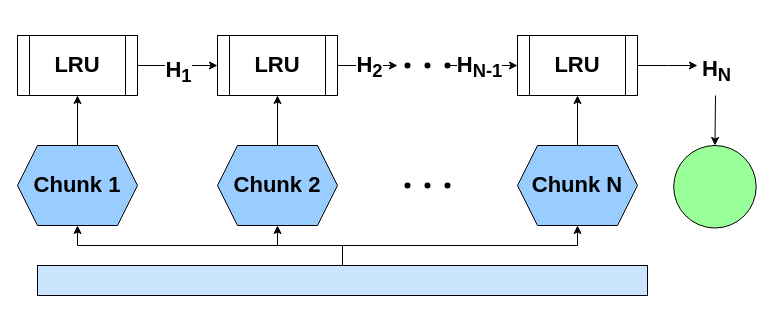
This 774x313 diagram has some shape labels left out. Each missing label, with the box of its shape:
Output: (673, 144, 756, 228)
Ultra-Long Sequence: (36, 264, 648, 296)
